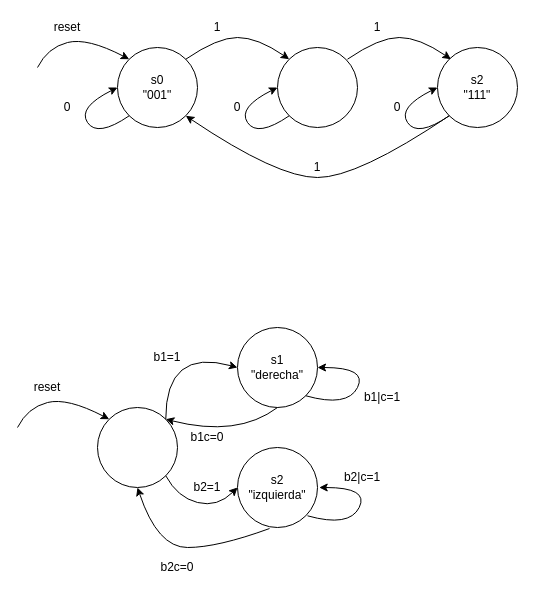
This 535x594 diagram has some shape labels left out. Each missing label, with the box of its shape:
s0 "apagado": (96, 406, 178, 488)
s1 "011": (276, 46, 358, 128)
